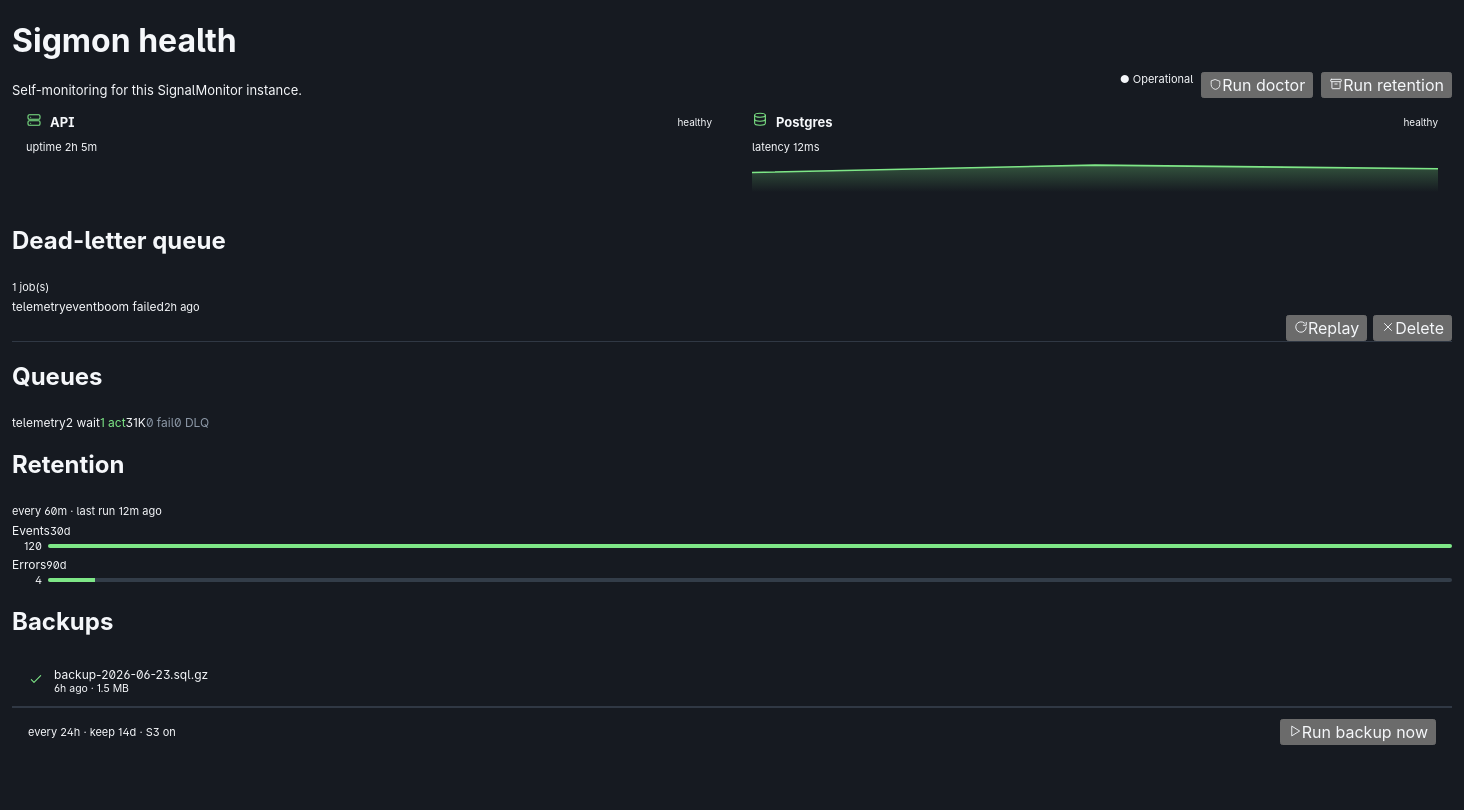
Test: SystemScreen › dead-letter queue section › expands a row and loads payload + action history on demand
The image size is (1464, 810).
Click the text "boom failed". click: (130, 306)
box: [97, 299, 164, 314]
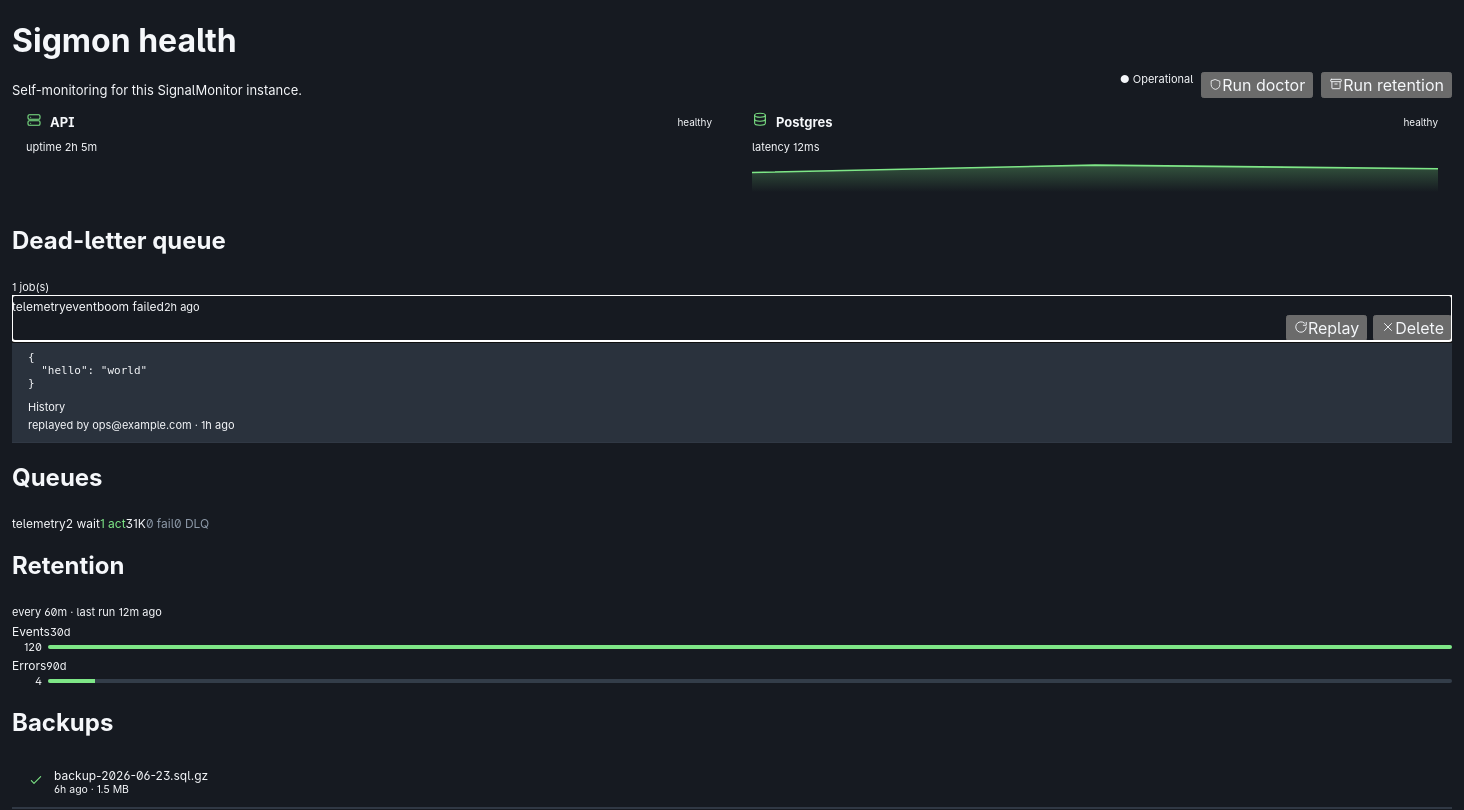
Result: the text "{ \"hello\": \"world\" }" is shown at [28, 351, 147, 390]
Result: the text "replayed by ops@example.com · 1h ago" is shown at [28, 418, 234, 432]
